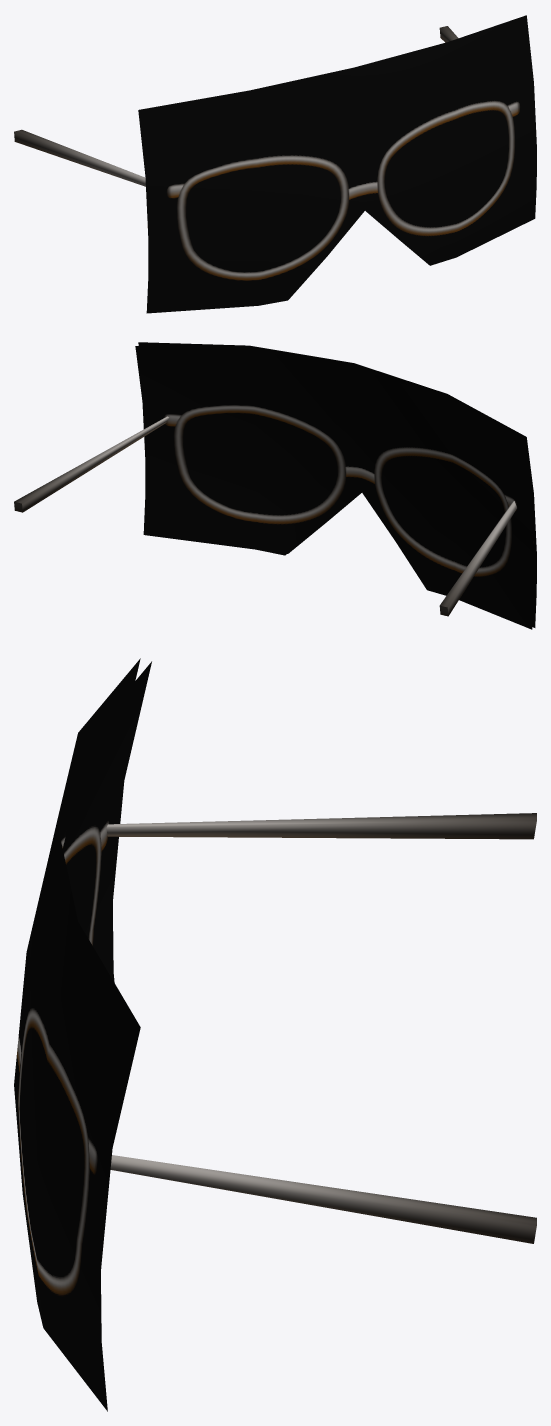
File: Glasses.fbx
3 renders of one model, top to bottom at view 1: azimuth 30°, elevation 25°; view 2: azimuth 150°, elevation 25°; view 3: azimuth 270°, elevation 25°, orthographic. The views are drawn at different scales.
Parts seen in each view (by area): view 1: Glasses; view 2: Glasses; view 3: Glasses.
Boxes of the visible parts, bbox=[...] form: Glasses: bbox=[14, 15, 536, 313]; Glasses: bbox=[14, 342, 536, 629]; Glasses: bbox=[14, 658, 536, 1411].
Bounding box in the file's own units: 22.33 × 10.43 × 11.97.
Materials: 1 (1 with a texture image).
